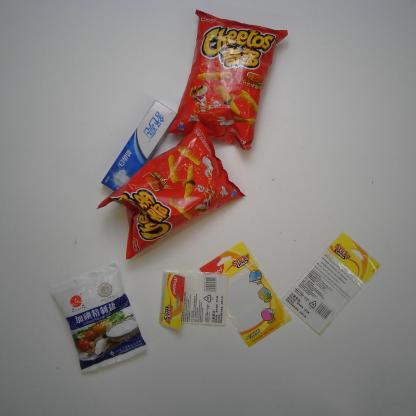Personal Hygiene: (99, 96, 179, 194)
Puffed Food: (94, 117, 248, 261), (163, 7, 290, 155)
Seasoner: (48, 259, 148, 377)
Stationery: (277, 228, 383, 338), (197, 240, 293, 352), (156, 268, 230, 332)
